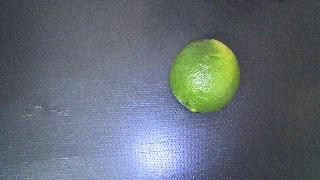EXPORTACION: (170, 39, 240, 113)
